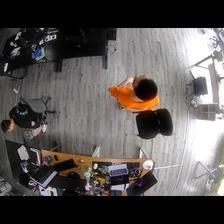normal: (2, 93, 59, 140), (107, 70, 161, 116)
